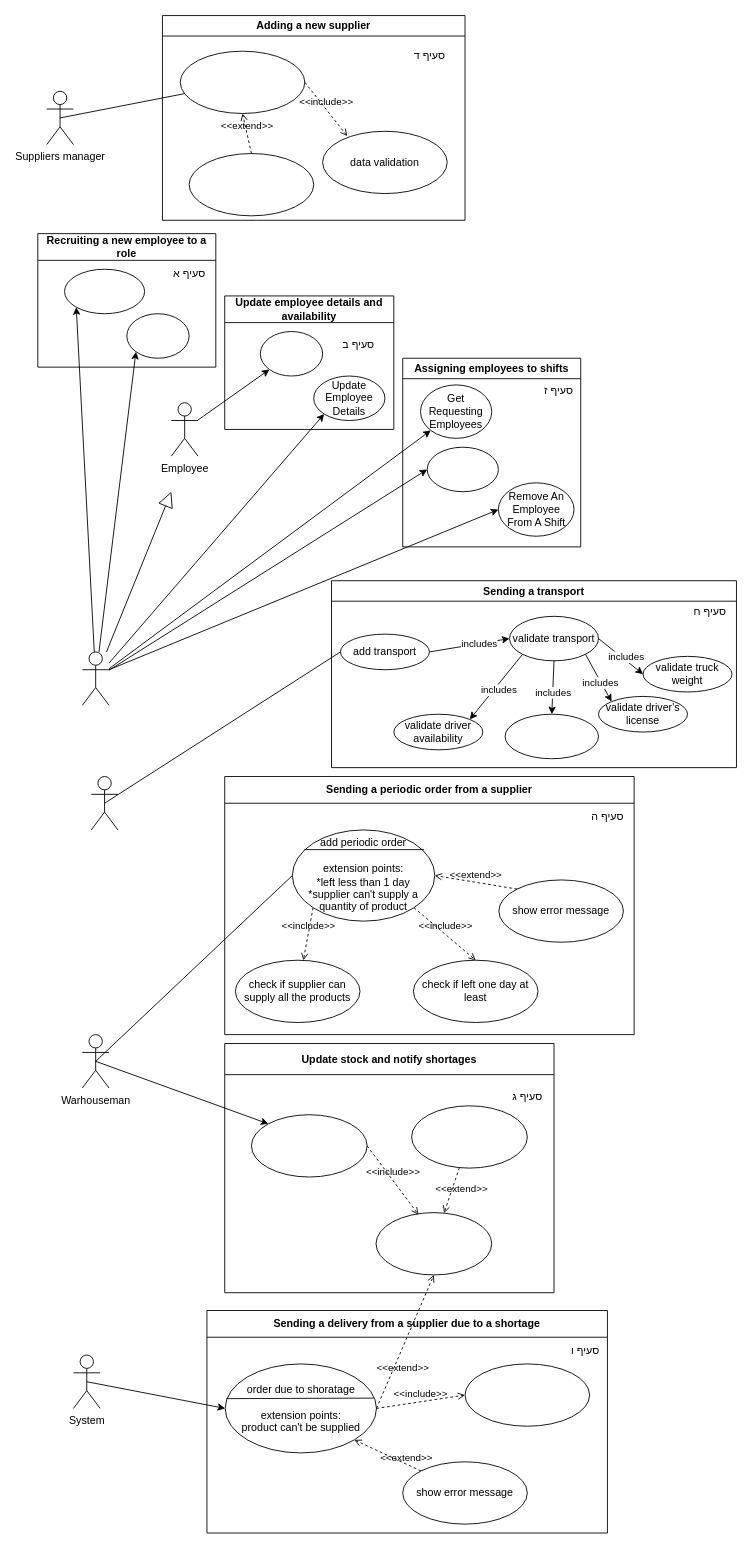
This 752x1549 diagram has some shape labels left out. Each missing label, with the centre of its shape:
add supplier: the point at 242,81
Certify Employee: the point at 104,291
check if all products can be supplied: the point at 527,1394
check stock shortages: the point at 433,1243
HR Manager: the point at 95,678
Recruit Employee: the point at 157,335
Register Employees To A Shift: the point at 462,469
Request Shift: the point at 291,353
send alert: the point at 469,1136
show error mesage: the point at 251,184
Transport Manager: the point at 104,803
update Inventory: the point at 309,1145
validate storekeeper availability: the point at 551,736
